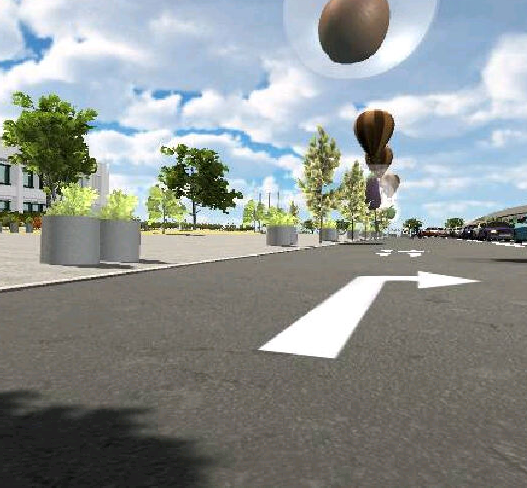ground_right: (328, 270, 483, 291)
